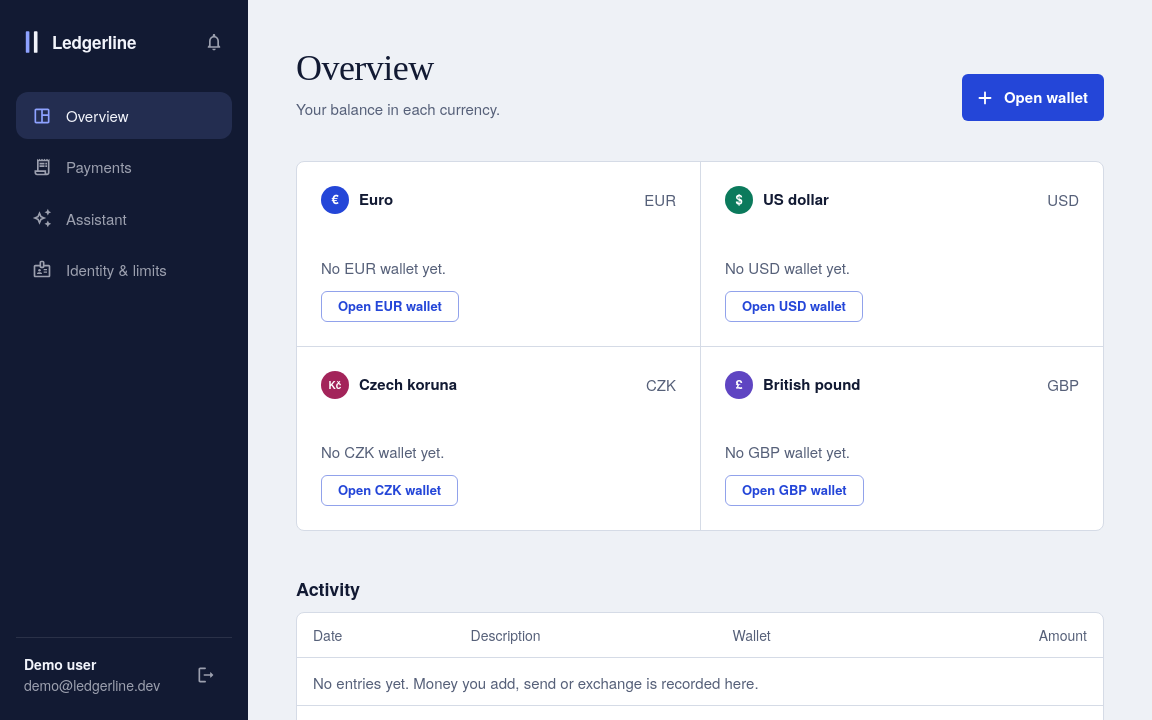
Test case: Notifications › says when there is nothing yet
The image size is (1152, 720).
Click the button named "Notifications": click(214, 42) [196,24,232,60]
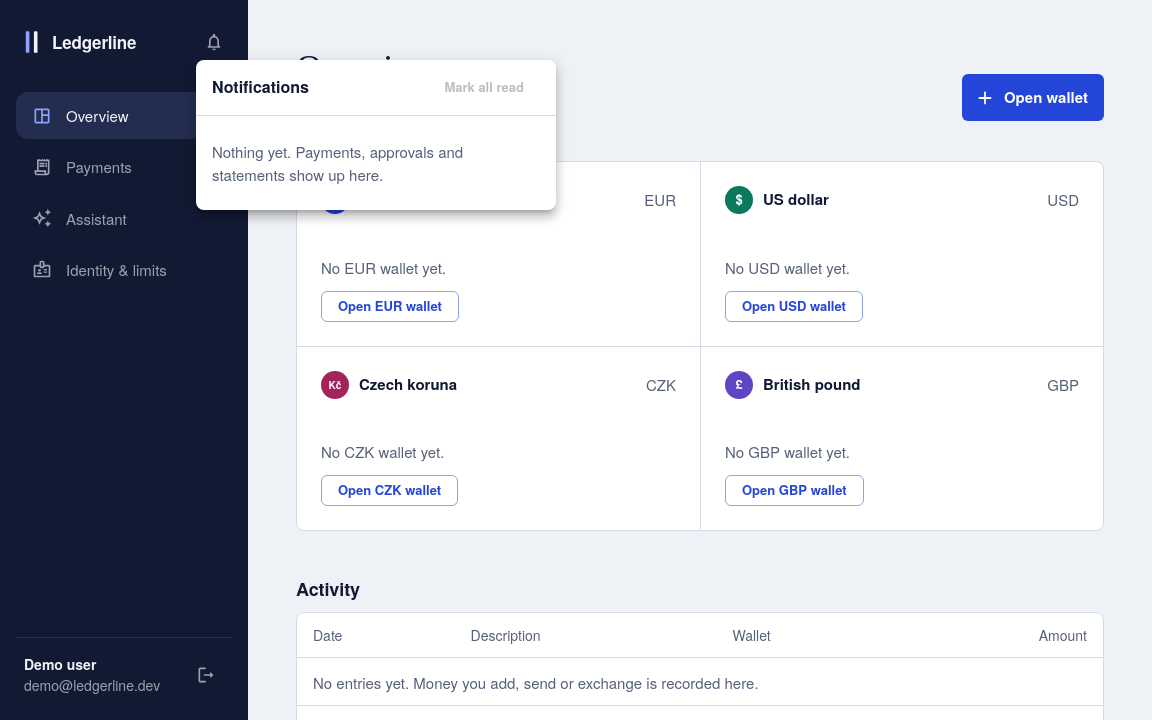
Expected: the text "Nothing yet. Payments, approvals and statements show up here." is shown, [212,141,463,185]
